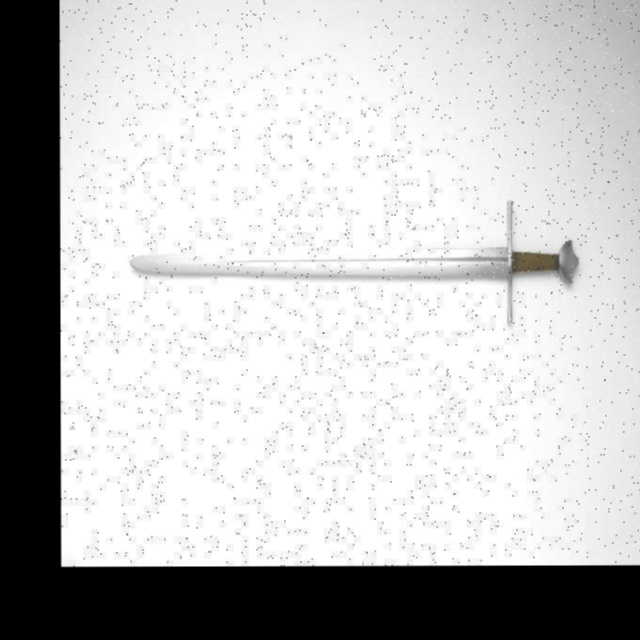Sharp-Object: (124, 233, 594, 296)
